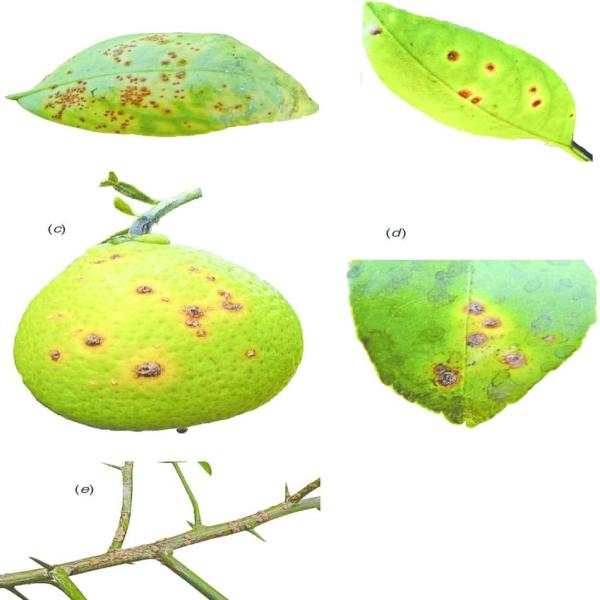Trips: (6, 209, 314, 444)
